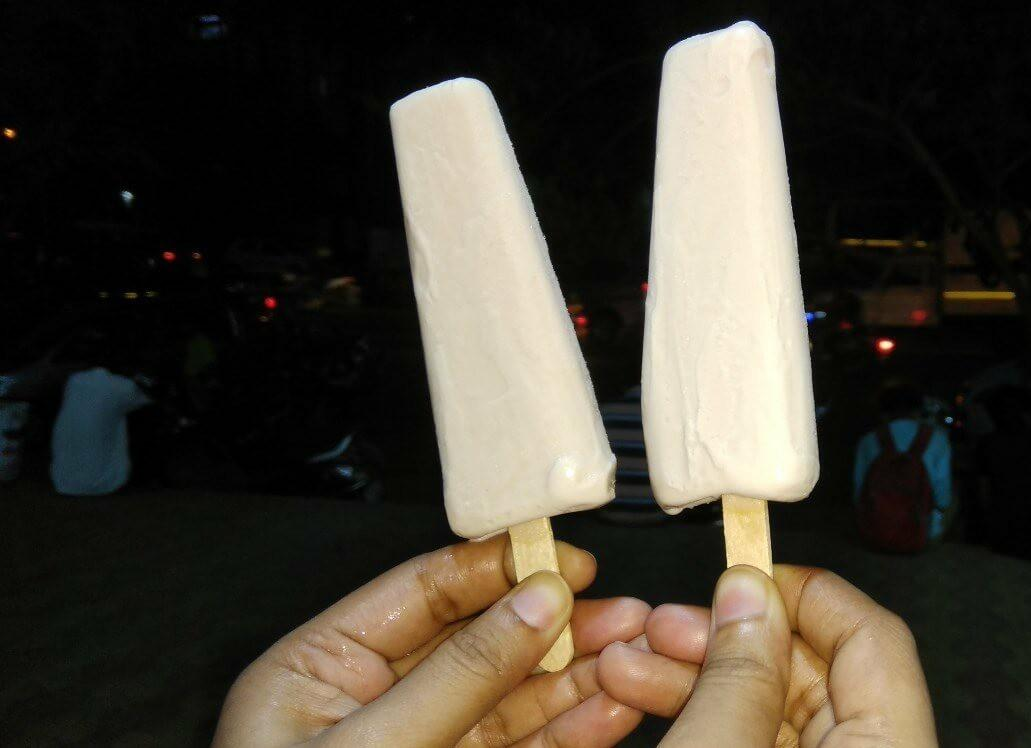Kulfi: (389, 74, 616, 537), (644, 19, 823, 518)
